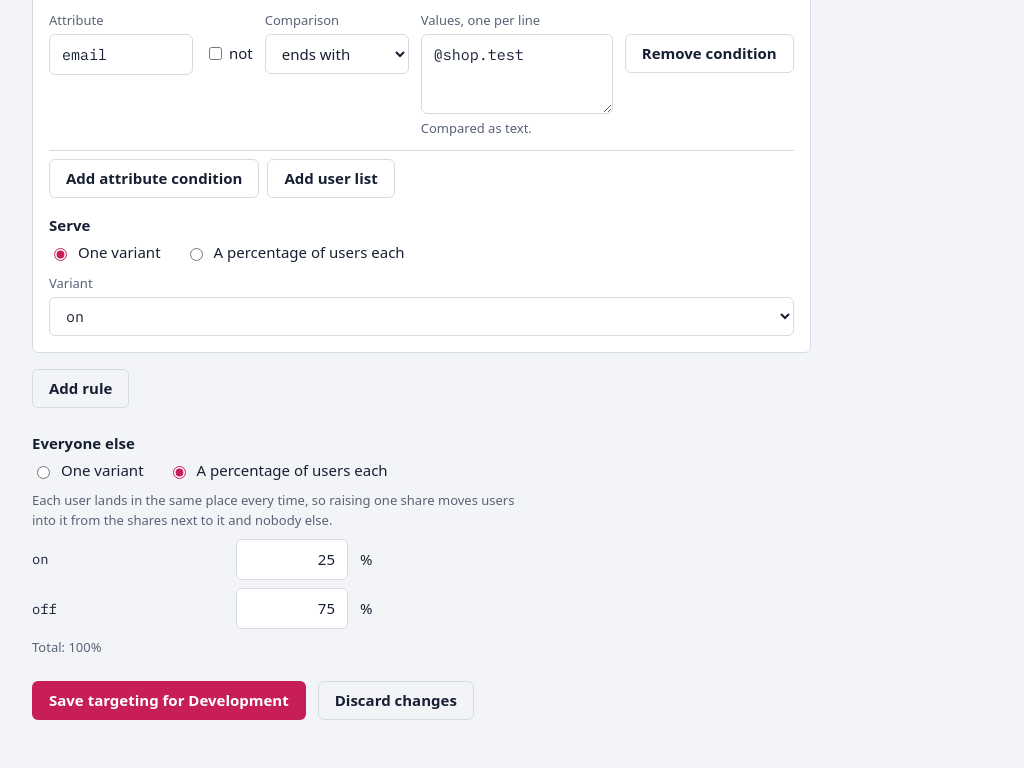
Test: editing targeting › saves the environment's targeting against the version it was loaded at
(page scrolled)
Click the button "Save targeting for Development": (169, 701) x1=32 y1=681 x2=306 y2=720
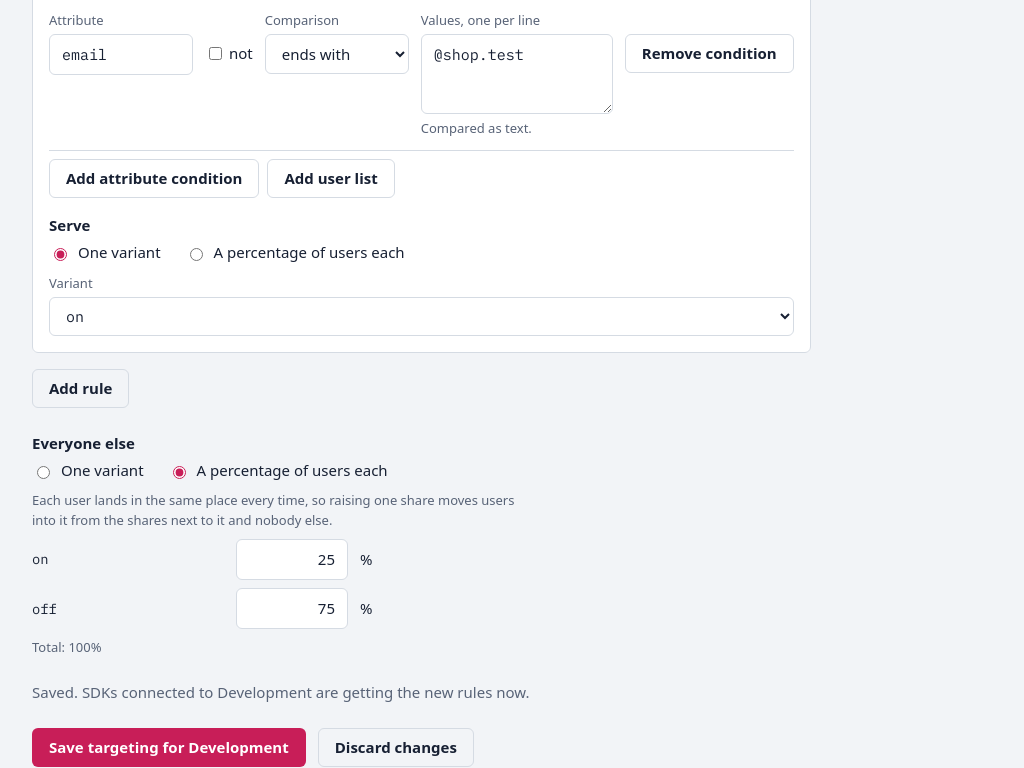
Expected: the text "Saved. SDKs connected to Development are getting the new rules now." is shown, x1=32 y1=681 x2=615 y2=704
